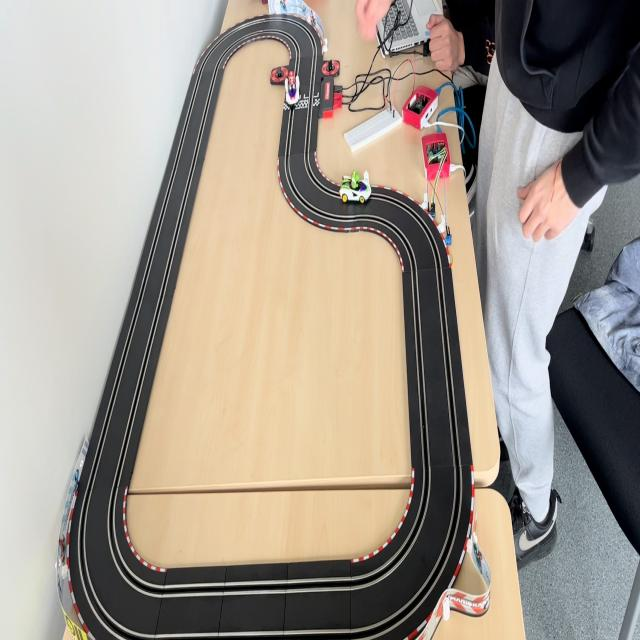mario: (284, 70, 301, 106)
yoshi: (339, 168, 372, 204)
